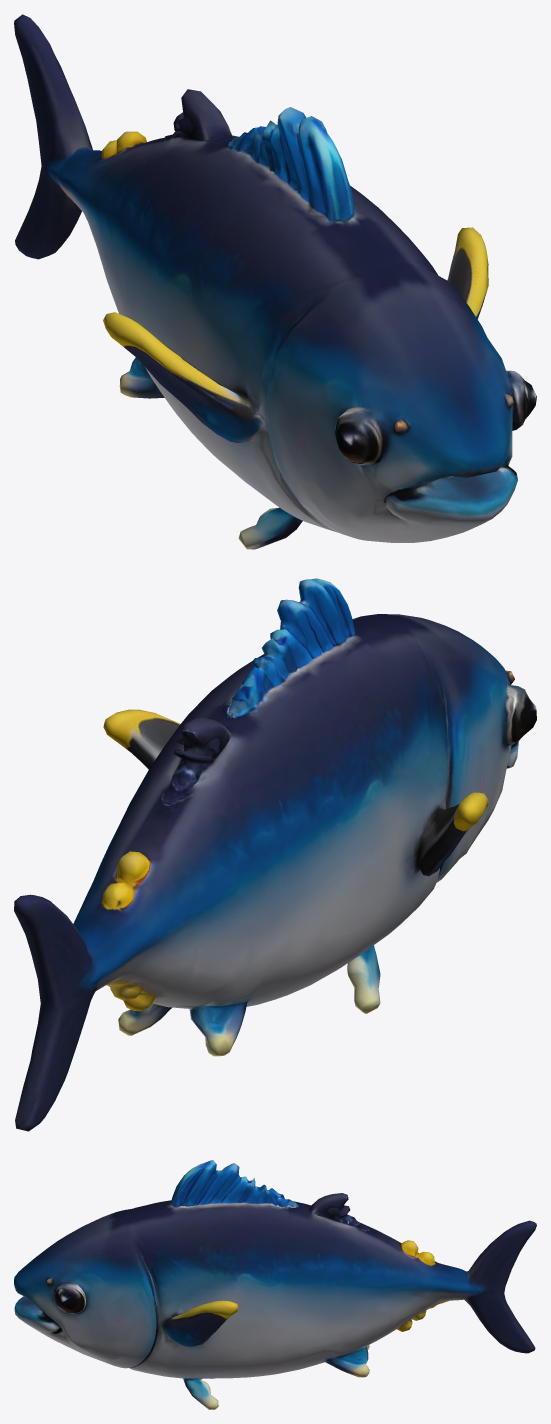
The model's file is tuna.glb.
The picture shows the model from 3 angles, top to bottom: view 1: azimuth 30°, elevation 25°; view 2: azimuth 150°, elevation 25°; view 3: azimuth 270°, elevation 25°; orthographic projection. The views are drawn at different scales.
Visible parts, largest first — view 1: tripo_node_0311ec9e-5e4b-4427-987d-5a8a19fdc1be; view 2: tripo_node_0311ec9e-5e4b-4427-987d-5a8a19fdc1be; view 3: tripo_node_0311ec9e-5e4b-4427-987d-5a8a19fdc1be.
Boxes of the visible parts, x1,y1,x2,y2 form: tripo_node_0311ec9e-5e4b-4427-987d-5a8a19fdc1be: [14, 14, 536, 549]; tripo_node_0311ec9e-5e4b-4427-987d-5a8a19fdc1be: [14, 578, 536, 1131]; tripo_node_0311ec9e-5e4b-4427-987d-5a8a19fdc1be: [14, 1160, 536, 1409].
Bounding box in the file's own units: 0.4578 × 0.4915 × 0.9996.
1 material, 1 textured.
